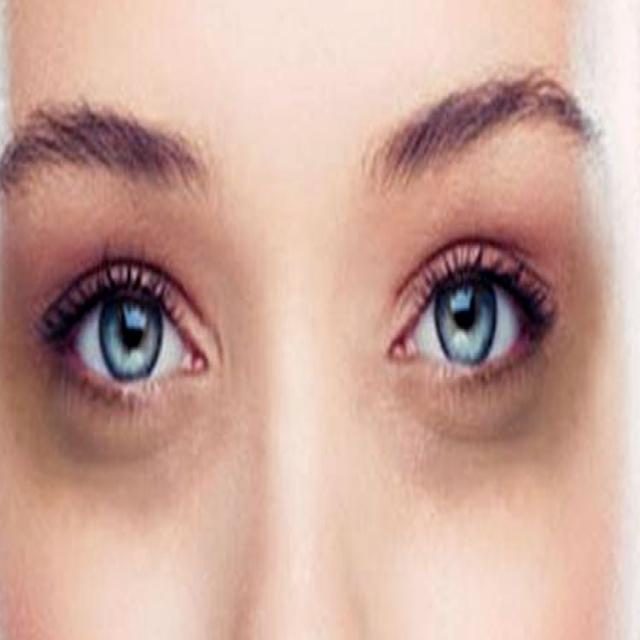Eyebags: (370, 216, 616, 517), (11, 235, 233, 523)
